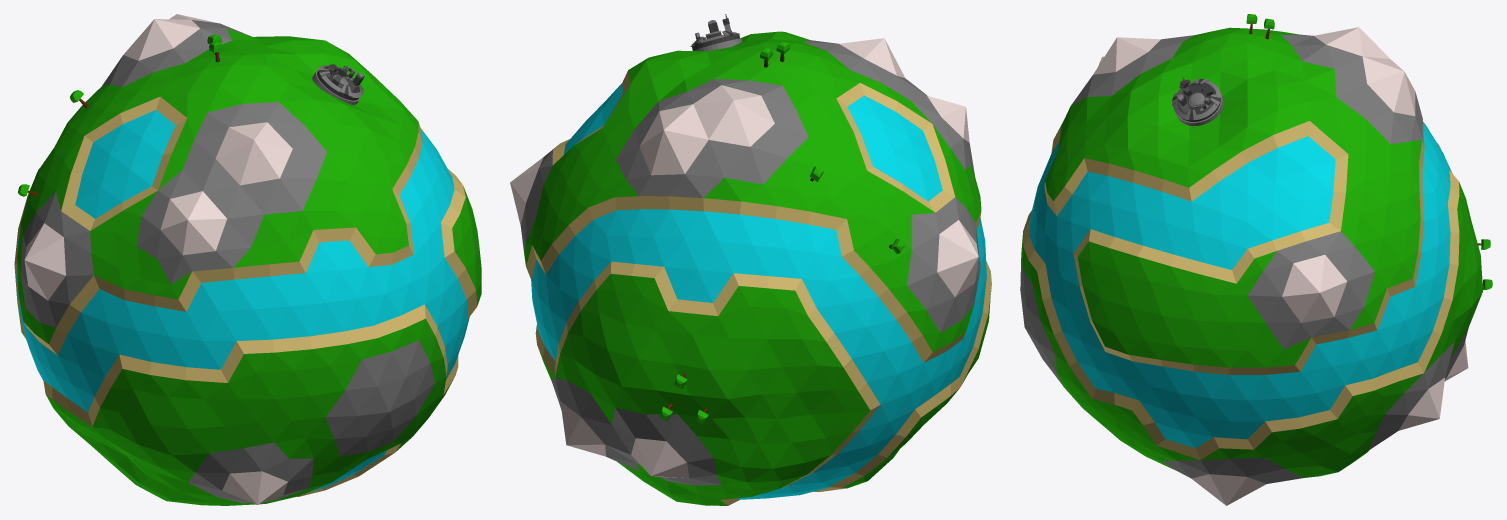
File: firstPlanet.fbx
The picture shows the model from 3 angles, left to right: view 1: azimuth 30°, elevation 25°; view 2: azimuth 150°, elevation 25°; view 3: azimuth 270°, elevation 25°; orthographic projection. The views are drawn at different scales.
Parts seen in each view (by area): view 1: planet, Town; view 2: planet, Town; view 3: planet, Town.
Part boxes in pixels (left/top/right/bottom): planet: left=14, top=14, right=481, bottom=505; Town: left=312, top=64, right=364, bottom=104; planet: left=510, top=31, right=991, bottom=505; Town: left=690, top=14, right=742, bottom=51; planet: left=1020, top=27, right=1482, bottom=505; Town: left=1172, top=78, right=1223, bottom=126.
Size of the model in its own units: 1089 by 1080 by 1070.
